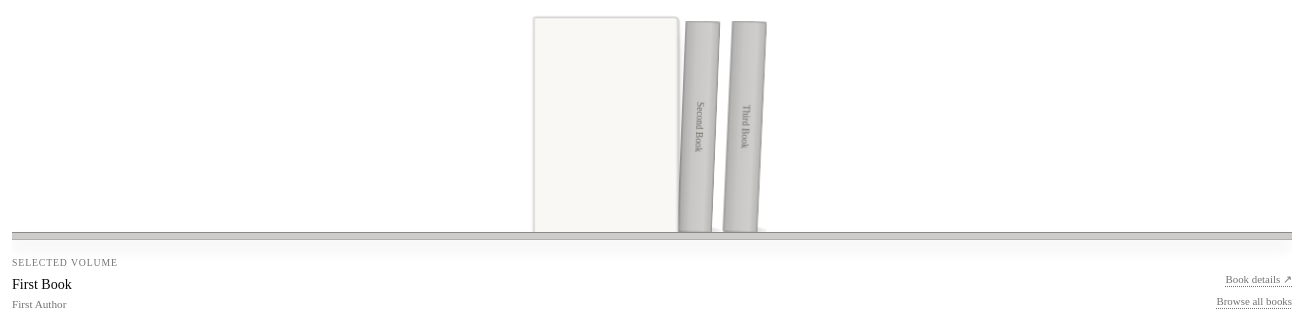
HomeBookshelf › renders actual cover images and opens a selected volume
Click the button with aria-label "Show Second Book" at (694, 126), box [677,20,712,232]
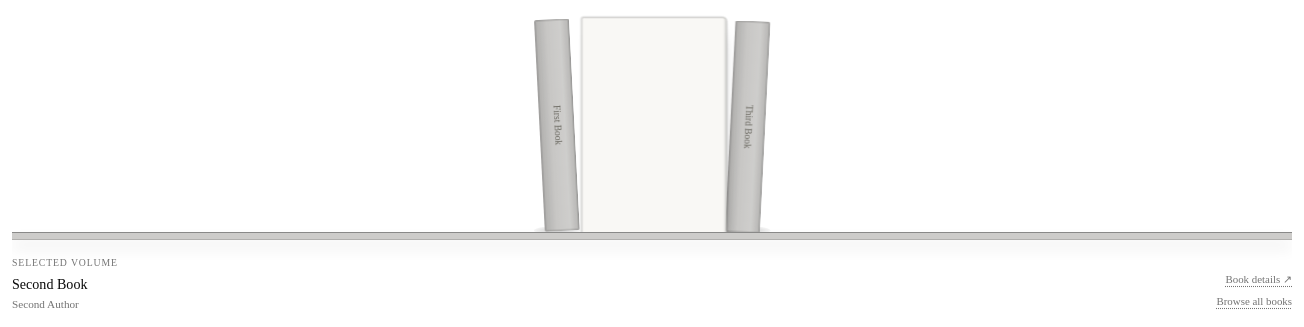
Expected: the text "Second Author" is shown, [12,298,79,310]
